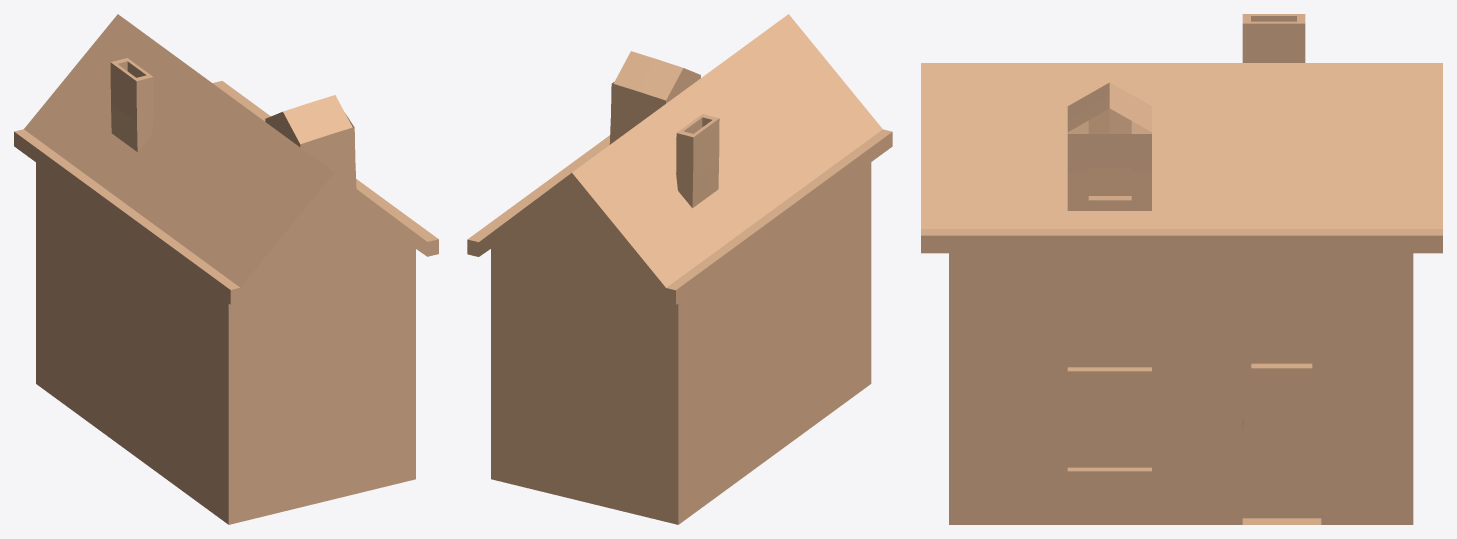
The model's file is Maison_v1.glb.
The picture shows the model from 3 angles, left to right: view 1: azimuth 30°, elevation 25°; view 2: azimuth 150°, elevation 25°; view 3: azimuth 270°, elevation 25°; orthographic projection. The views are drawn at different scales.
Visible parts, largest first — view 1: Cube; view 2: Cube; view 3: Cube.
Part boxes in pixels (x1=…): Cube: x1=14, y1=14, x2=438, y2=524; Cube: x1=467, y1=14, x2=892, y2=524; Cube: x1=921, y1=14, x2=1442, y2=524.
Size of the model in its own units: 7.62 by 12.15 by 13.73.
